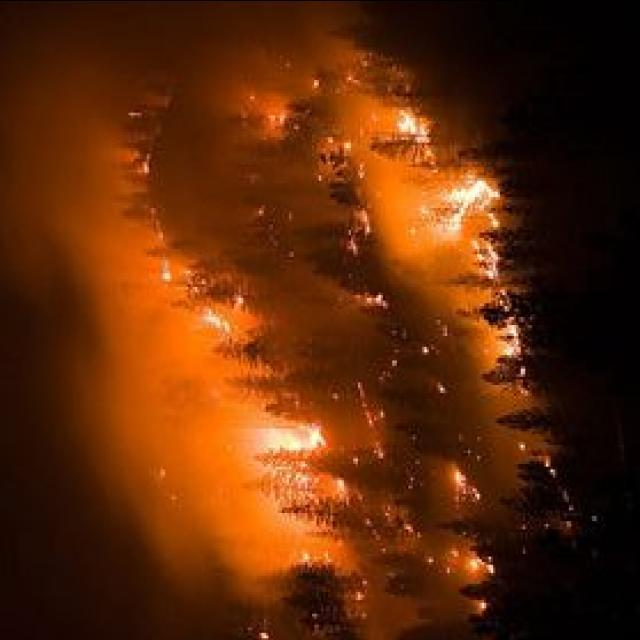Fire: (381, 93, 514, 275), (252, 414, 328, 540)
